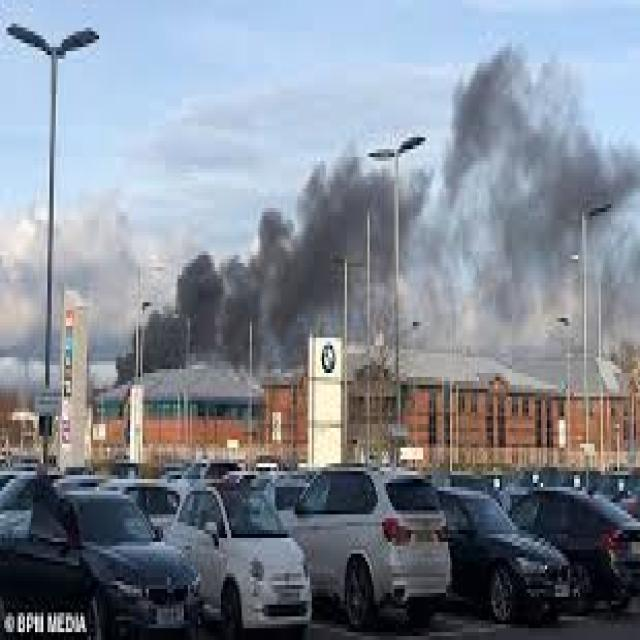Smoke: (115, 43, 640, 384)
